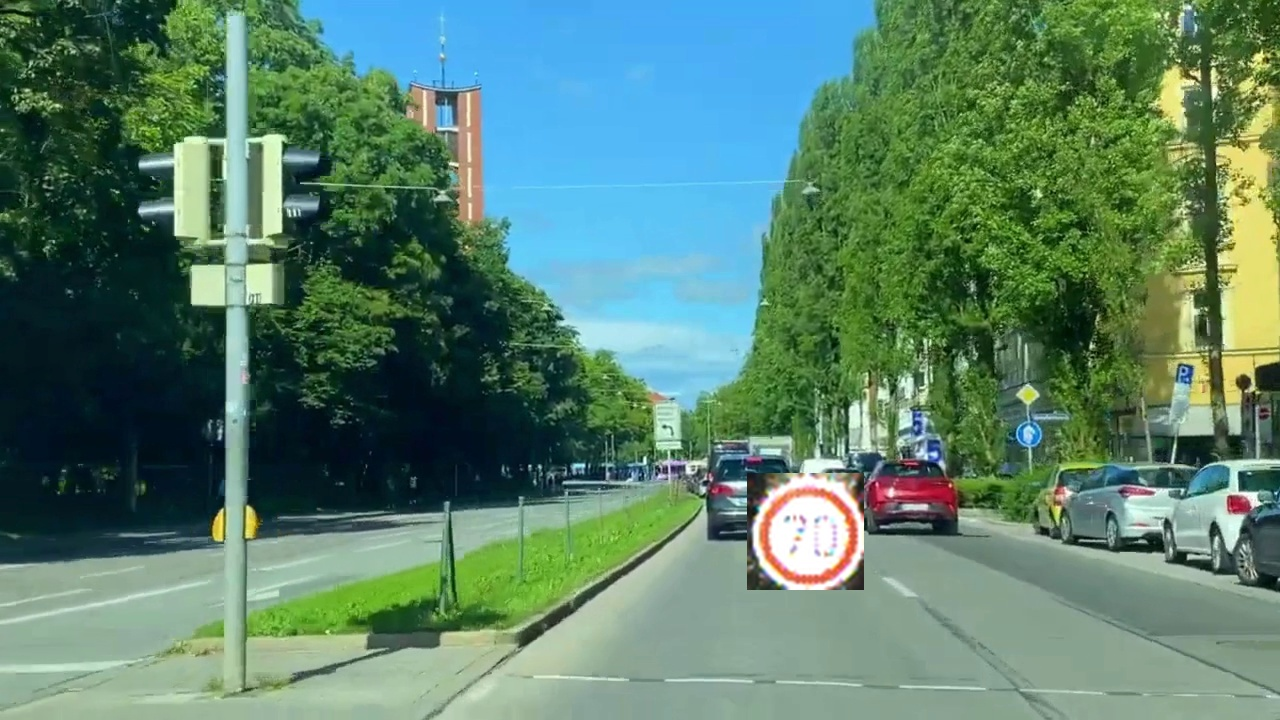Speed 70: (747, 473, 864, 590)
